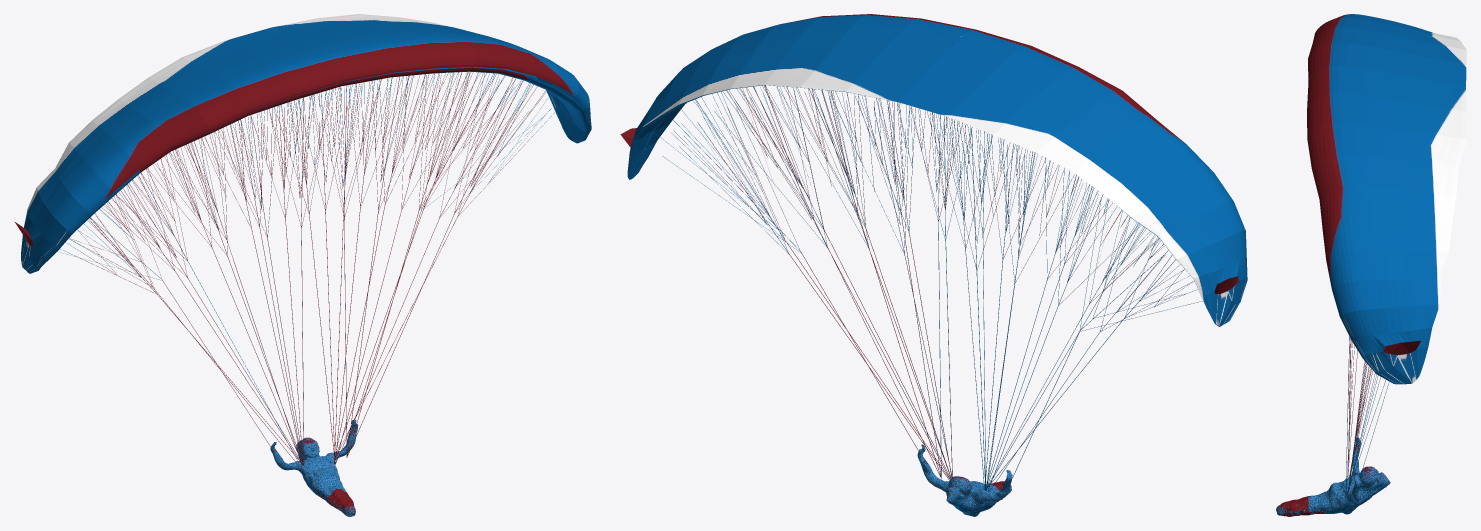
Rendered from PP Advance Iota 2 bleue.glb.
3 renders of one model, left to right at view 1: azimuth 30°, elevation 25°; view 2: azimuth 150°, elevation 25°; view 3: azimuth 270°, elevation 25°, orthographic. The views are drawn at different scales.
Parts seen in each view (by area): view 1: IOTA2etpilote; view 2: IOTA2etpilote; view 3: IOTA2etpilote.
Boxes of the visible parts, x1,y1,x2,y2 form: IOTA2etpilote: (14, 14, 591, 516); IOTA2etpilote: (620, 14, 1247, 516); IOTA2etpilote: (1276, 14, 1466, 516).
Size of the model in its own units: 28.29 by 21.63 by 8.22.
Materials: 1 (1 with a texture image).
